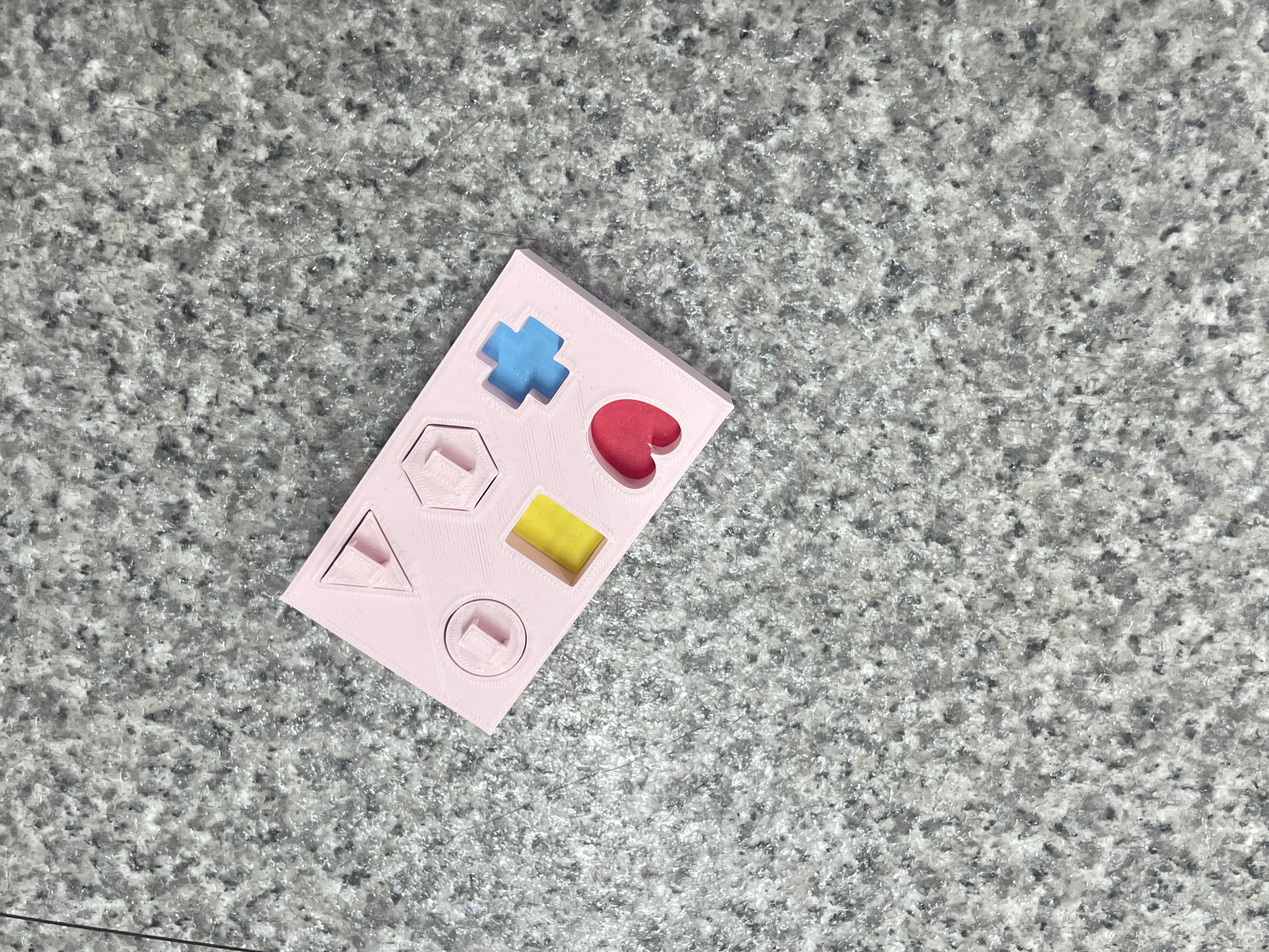unsolved: (269, 241, 749, 743)
